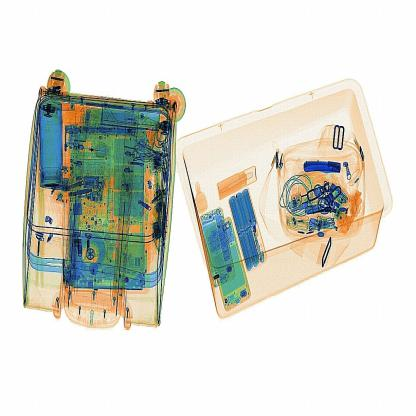knife: (304, 158, 345, 176)
